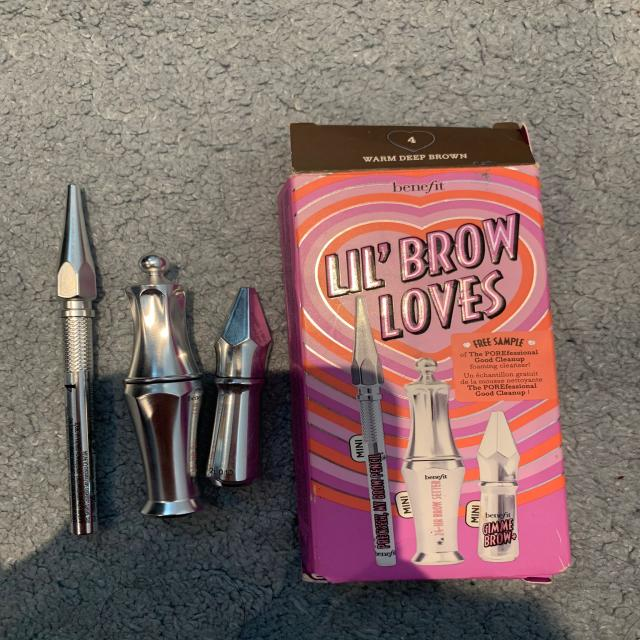lip gloss: (290, 136, 597, 604)
lip liner: (31, 169, 126, 559)
lip stick: (213, 291, 289, 503)
mascara: (130, 253, 206, 523)
